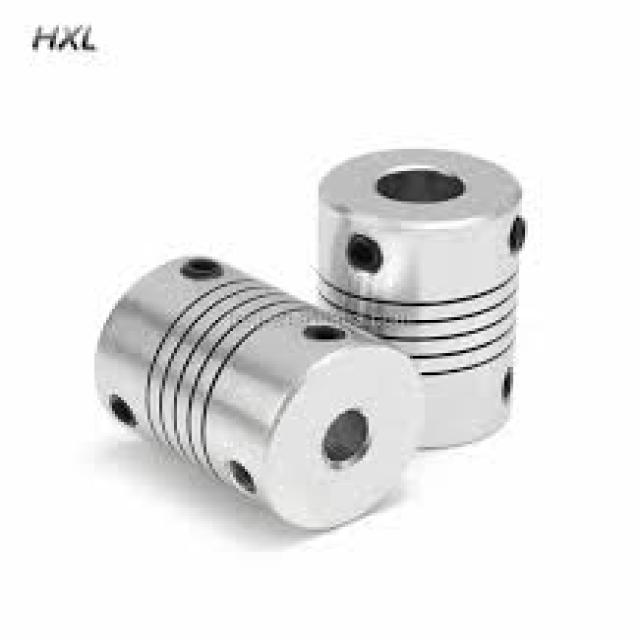Turning: (53, 218, 468, 552), (298, 94, 577, 471)
